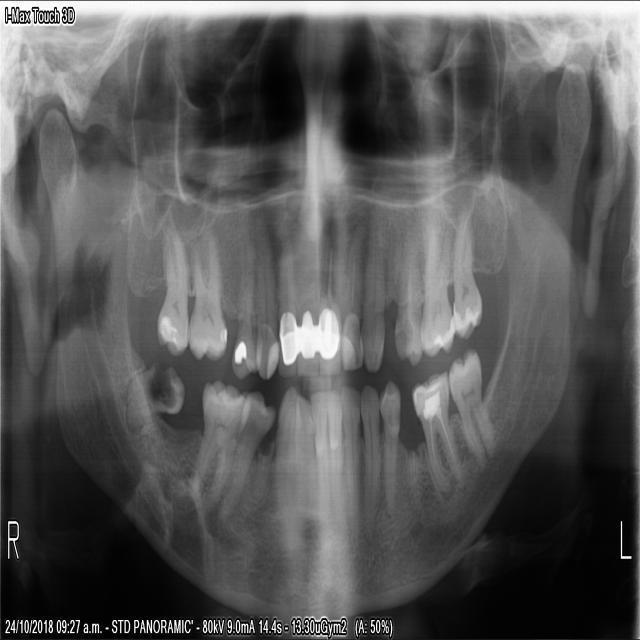LCD: (359, 379, 381, 545)
LCU: (362, 225, 386, 375)
LID: (325, 386, 347, 532), (340, 383, 360, 541)
LIU: (317, 232, 341, 377), (341, 224, 363, 371)
LMD: (408, 364, 465, 498), (449, 343, 498, 471)
LMU: (420, 222, 454, 357), (452, 203, 482, 343)
LPMD: (379, 376, 400, 518)
LPMU: (392, 226, 421, 368)
RCD: (274, 382, 300, 551)
RCU: (252, 213, 276, 379)
RID: (292, 393, 318, 545), (308, 389, 330, 526)
RIU: (276, 232, 296, 378), (295, 246, 317, 378)
RMD: (185, 375, 246, 514), (124, 352, 184, 430)
RMU: (186, 228, 226, 362), (154, 221, 187, 360)
RPMD: (214, 388, 273, 521)
RPMU: (229, 228, 253, 381)
